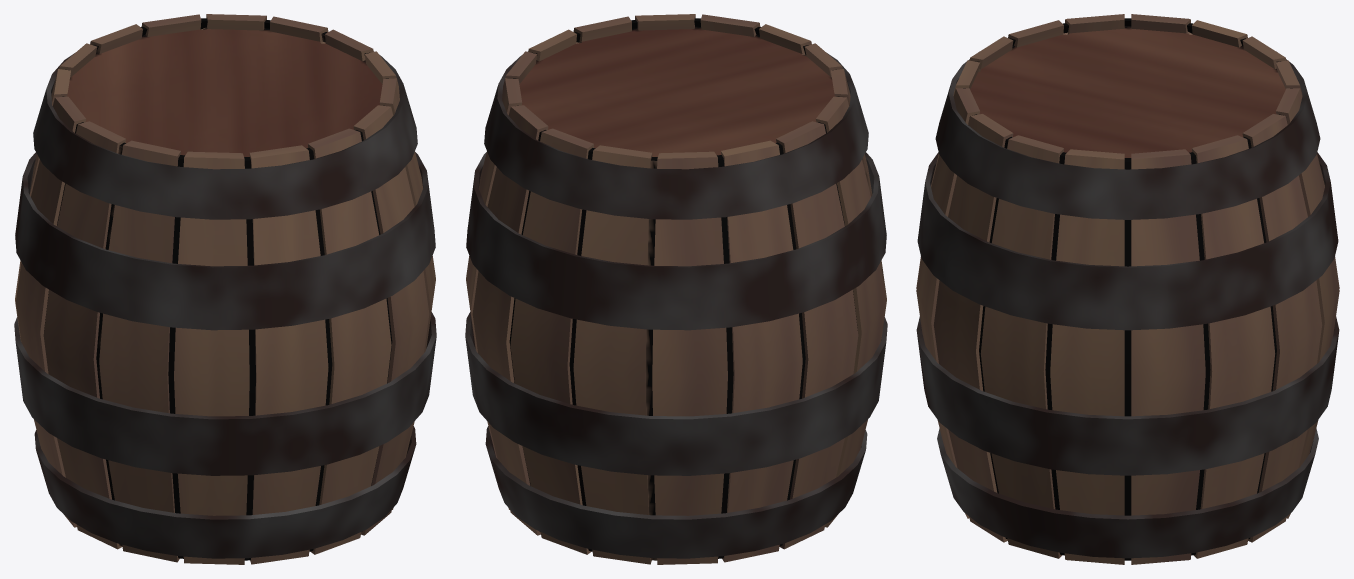
File: barrel.fbx
The picture shows the model from 3 angles, left to right: view 1: azimuth 30°, elevation 25°; view 2: azimuth 150°, elevation 25°; view 3: azimuth 270°, elevation 25°; orthographic projection.
Parts seen in each view (by area): view 1: Cylinder; view 2: Cylinder; view 3: Cylinder.
Boxes of the visible parts, left/top/right/bottom form: Cylinder: left=14, top=14, right=436, bottom=564; Cylinder: left=465, top=14, right=887, bottom=564; Cylinder: left=916, top=14, right=1339, bottom=564.
Bounding box in the file's own units: 258 × 273 × 258.
